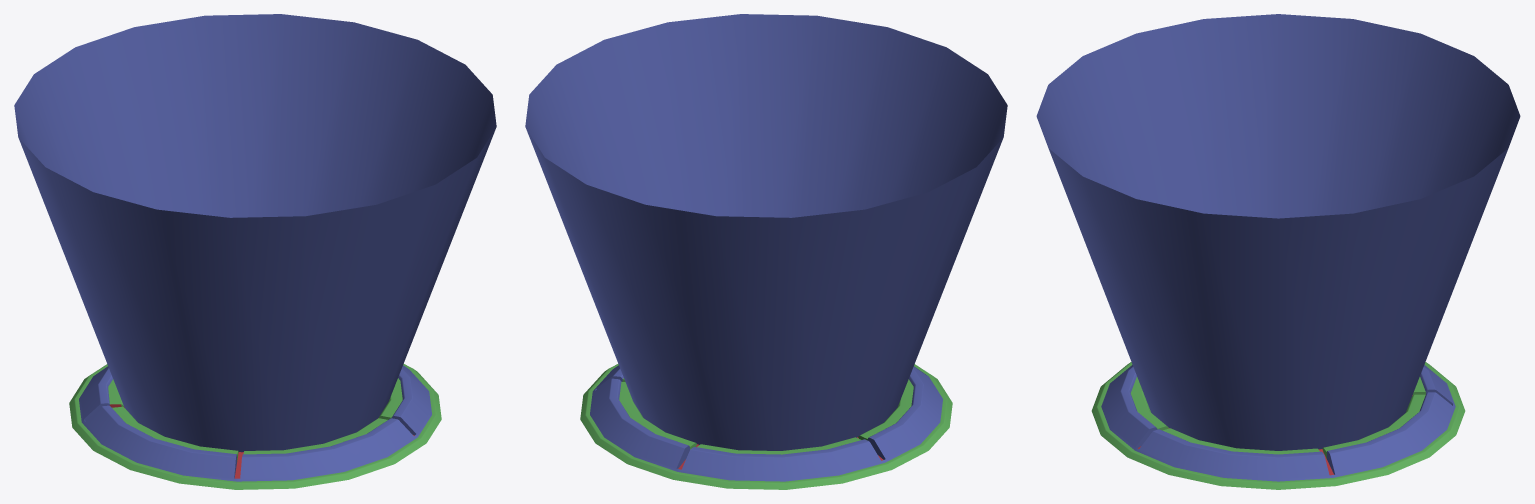
File: SM_LightPlatform.fbx
3 renders of one model, left to right at view 1: azimuth 30°, elevation 25°; view 2: azimuth 150°, elevation 25°; view 3: azimuth 270°, elevation 25°, orthographic.
Parts seen in each view (by area): view 1: SM_LightPlatform_Beam, SM_LightPlatform; view 2: SM_LightPlatform_Beam, SM_LightPlatform; view 3: SM_LightPlatform_Beam, SM_LightPlatform.
Part boxes in pixels (x1,y1,x2,y2): SM_LightPlatform_Beam: (14, 14, 496, 452); SM_LightPlatform: (69, 364, 441, 489); SM_LightPlatform_Beam: (525, 14, 1007, 450); SM_LightPlatform: (580, 364, 952, 489); SM_LightPlatform_Beam: (1036, 14, 1520, 450); SM_LightPlatform: (1091, 362, 1465, 489).
Size of the model in its own units: 731 by 491 by 731.
